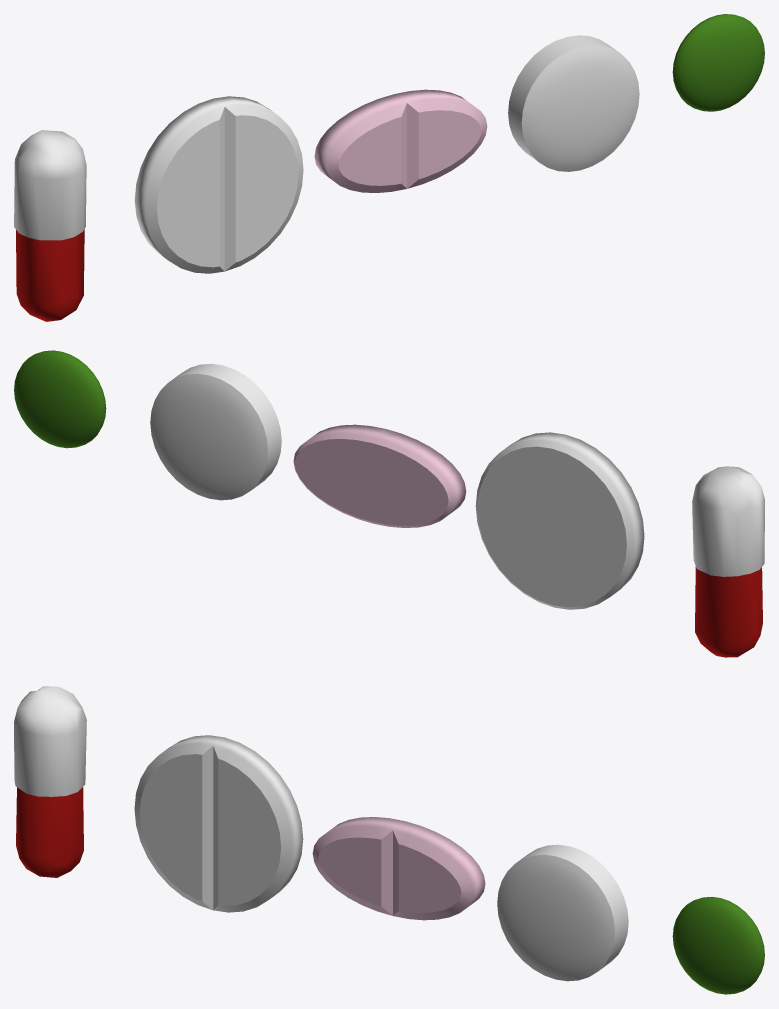
File: Pills.glb
3 renders of one model, top to bottom at view 1: azimuth 30°, elevation 25°; view 2: azimuth 150°, elevation 25°; view 3: azimuth 330°, elevation 25°, orthographic.
Parts seen in each view (by area): view 1: Pill2, Pill4, Pill3, Pill1.2, Pill5, Pill1; view 2: Pill2, Pill4, Pill3, Pill1.2, Pill5, Pill1; view 3: Pill2, Pill4, Pill3, Pill1.2, Pill5, Pill1.
Boxes of the visible parts, left/top/right/bottom form: Pill2: left=134, top=96, right=303, bottom=273; Pill4: left=508, top=35, right=639, bottom=171; Pill3: left=314, top=89, right=487, bottom=192; Pill1.2: left=14, top=130, right=86, bottom=240; Pill5: left=672, top=14, right=764, bottom=111; Pill1: left=16, top=229, right=84, bottom=321; Pill2: left=475, top=432, right=644, bottom=609; Pill4: left=150, top=363, right=281, bottom=500; Pill3: left=293, top=424, right=466, bottom=527; Pill1.2: left=692, top=466, right=764, bottom=576; Pill5: left=14, top=350, right=106, bottom=448; Pill1: left=695, top=566, right=762, bottom=657; Pill2: left=134, top=735, right=303, bottom=912; Pill4: left=497, top=844, right=628, bottom=981; Pill3: left=312, top=817, right=485, bottom=920; Pill1.2: left=14, top=686, right=86, bottom=796; Pill5: left=672, top=897, right=764, bottom=994; Pill1: left=16, top=787, right=83, bottom=877.
Size of the model in its own units: 0.0633 by 0.015 by 0.00526.
